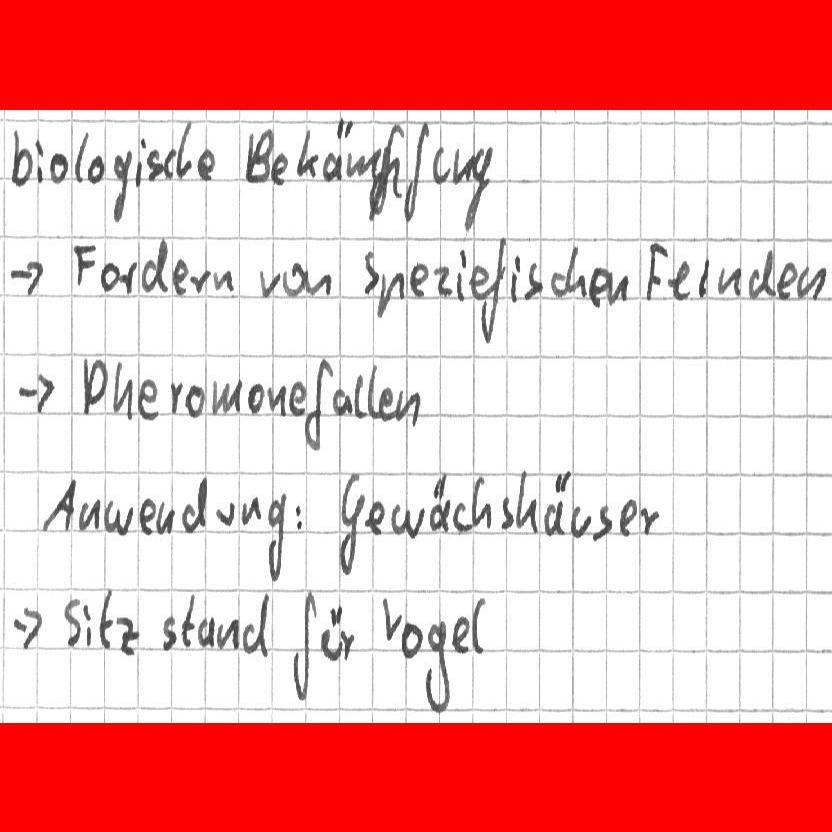Char: (335, 478, 365, 581), (463, 143, 494, 233), (371, 128, 401, 219), (303, 360, 332, 451), (422, 620, 449, 713), (293, 599, 317, 702), (403, 127, 431, 215), (485, 243, 508, 347), (264, 494, 288, 584), (38, 478, 76, 533), (540, 469, 571, 536), (320, 119, 351, 181), (242, 593, 271, 656), (80, 351, 107, 418), (641, 240, 667, 305), (243, 127, 272, 185), (17, 370, 54, 415), (140, 237, 167, 295), (180, 475, 207, 533), (110, 150, 131, 224), (747, 247, 775, 300), (112, 357, 134, 424), (12, 603, 42, 652), (515, 467, 537, 533), (8, 257, 43, 298), (376, 269, 404, 320), (9, 127, 31, 186), (428, 473, 449, 534), (96, 587, 116, 651), (211, 376, 242, 417), (391, 502, 423, 540), (566, 243, 588, 298), (297, 126, 319, 180), (471, 476, 493, 530), (344, 147, 381, 179), (174, 121, 194, 180), (322, 602, 342, 661), (71, 242, 97, 286), (453, 143, 479, 187), (795, 265, 826, 301), (380, 597, 403, 643), (106, 499, 133, 538), (471, 597, 489, 655), (137, 375, 160, 420), (63, 595, 82, 648), (715, 262, 741, 299), (180, 594, 197, 648), (395, 388, 419, 426), (589, 265, 609, 310), (359, 248, 378, 295), (280, 262, 306, 296), (287, 378, 308, 419), (670, 259, 690, 301), (400, 622, 423, 658), (523, 258, 542, 301), (78, 498, 102, 532), (258, 265, 282, 299), (306, 268, 333, 298), (366, 499, 386, 539), (72, 131, 88, 181), (408, 261, 429, 298), (217, 615, 238, 651), (117, 618, 138, 654), (569, 504, 591, 538), (776, 261, 796, 298), (468, 263, 488, 300), (452, 615, 470, 656), (154, 499, 175, 534), (431, 147, 450, 185), (593, 504, 612, 542), (185, 384, 205, 420), (267, 380, 287, 416), (611, 269, 631, 304), (619, 500, 638, 536), (269, 150, 288, 186), (240, 494, 262, 525), (33, 136, 46, 188), (351, 372, 366, 417), (638, 505, 660, 535), (172, 260, 190, 296), (455, 247, 467, 301), (433, 264, 452, 298), (246, 381, 265, 415), (214, 499, 236, 528), (140, 499, 157, 535), (497, 495, 514, 531), (367, 366, 379, 416), (161, 614, 178, 649), (50, 152, 69, 183), (100, 261, 119, 292), (167, 378, 182, 417), (191, 268, 213, 294), (136, 136, 146, 192), (197, 149, 214, 181), (146, 147, 162, 181), (122, 260, 138, 293), (697, 259, 710, 299), (379, 388, 395, 420), (453, 503, 470, 533), (162, 148, 178, 179), (198, 616, 213, 649), (216, 266, 234, 293), (510, 255, 520, 303), (88, 154, 104, 184), (549, 268, 565, 298), (340, 629, 355, 661), (82, 603, 93, 646), (332, 389, 349, 416), (293, 501, 305, 533)
